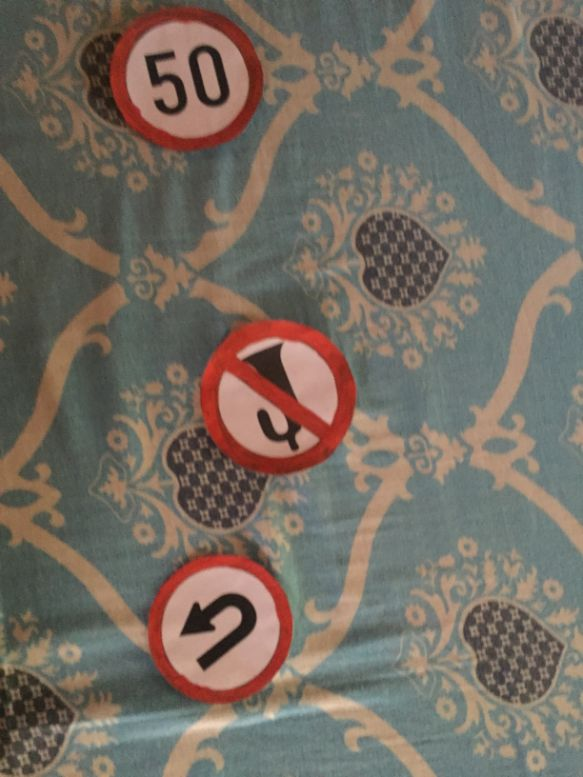no-horn: (200, 309, 361, 476)
speed-50: (105, 1, 267, 159)
u-turn: (145, 551, 299, 708)
